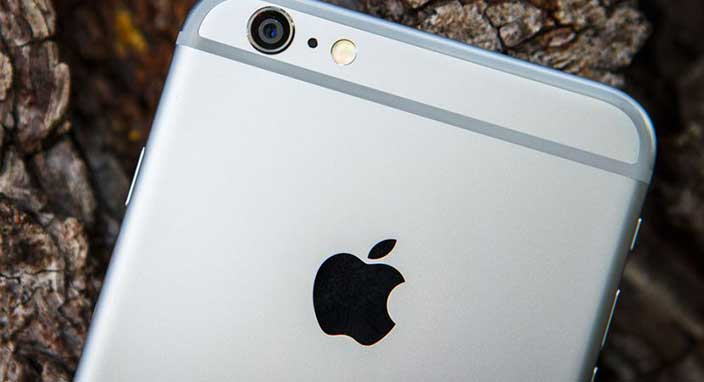apple: (304, 174, 416, 374)
